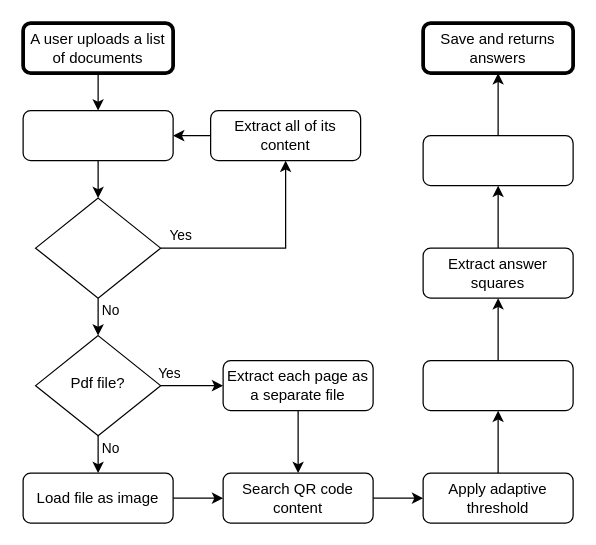
This 596x545 diagram has some shape labels left out. Each missing label, with the centre of its shape:
"Apply perspective transformation" belongs at pixel 497 385.
"Perform OCR over the squares" belongs at pixel 497 160.
"Process each document" belongs at pixel 97 135.
"Zip file?" belongs at pixel 97 247.
